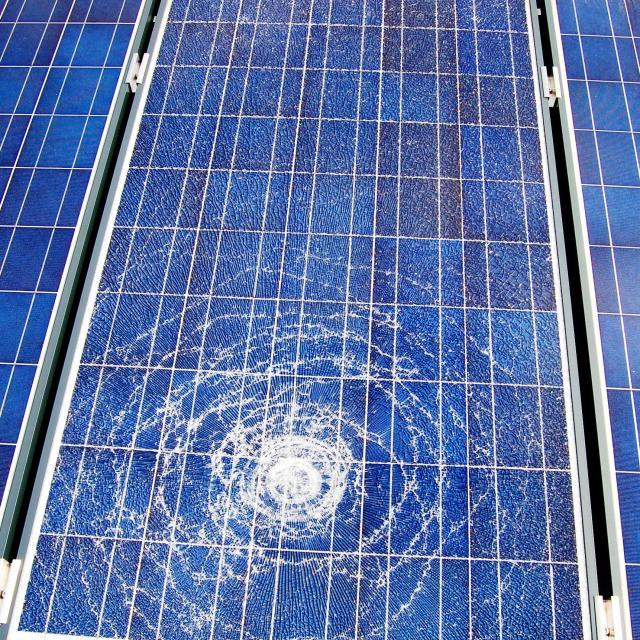faulty: (29, 1, 586, 640)
